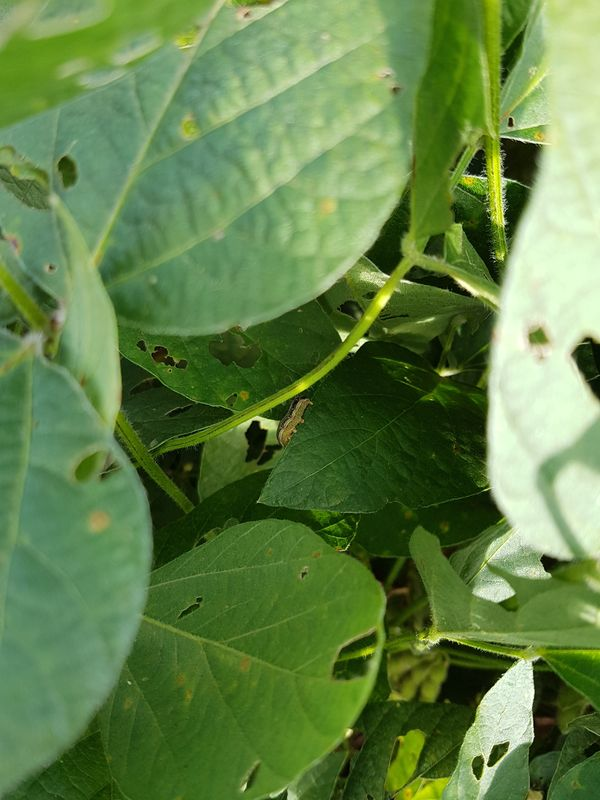Spodoptera_albula: (268, 386, 324, 457)
